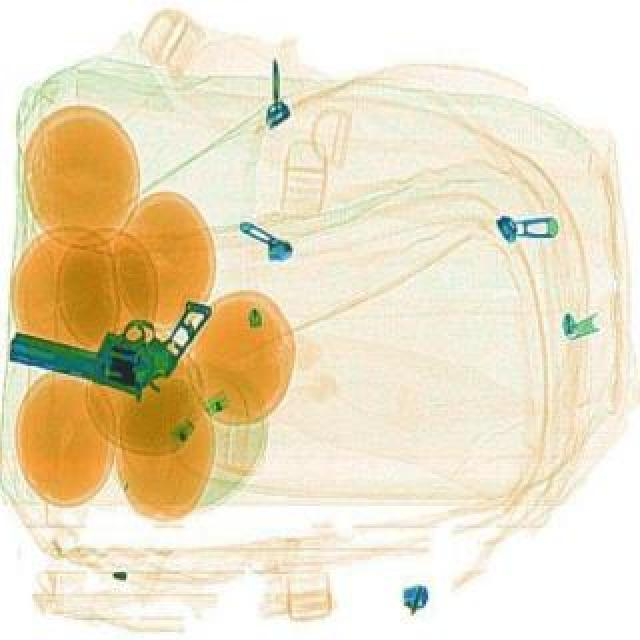gun: (2, 256, 212, 406)
